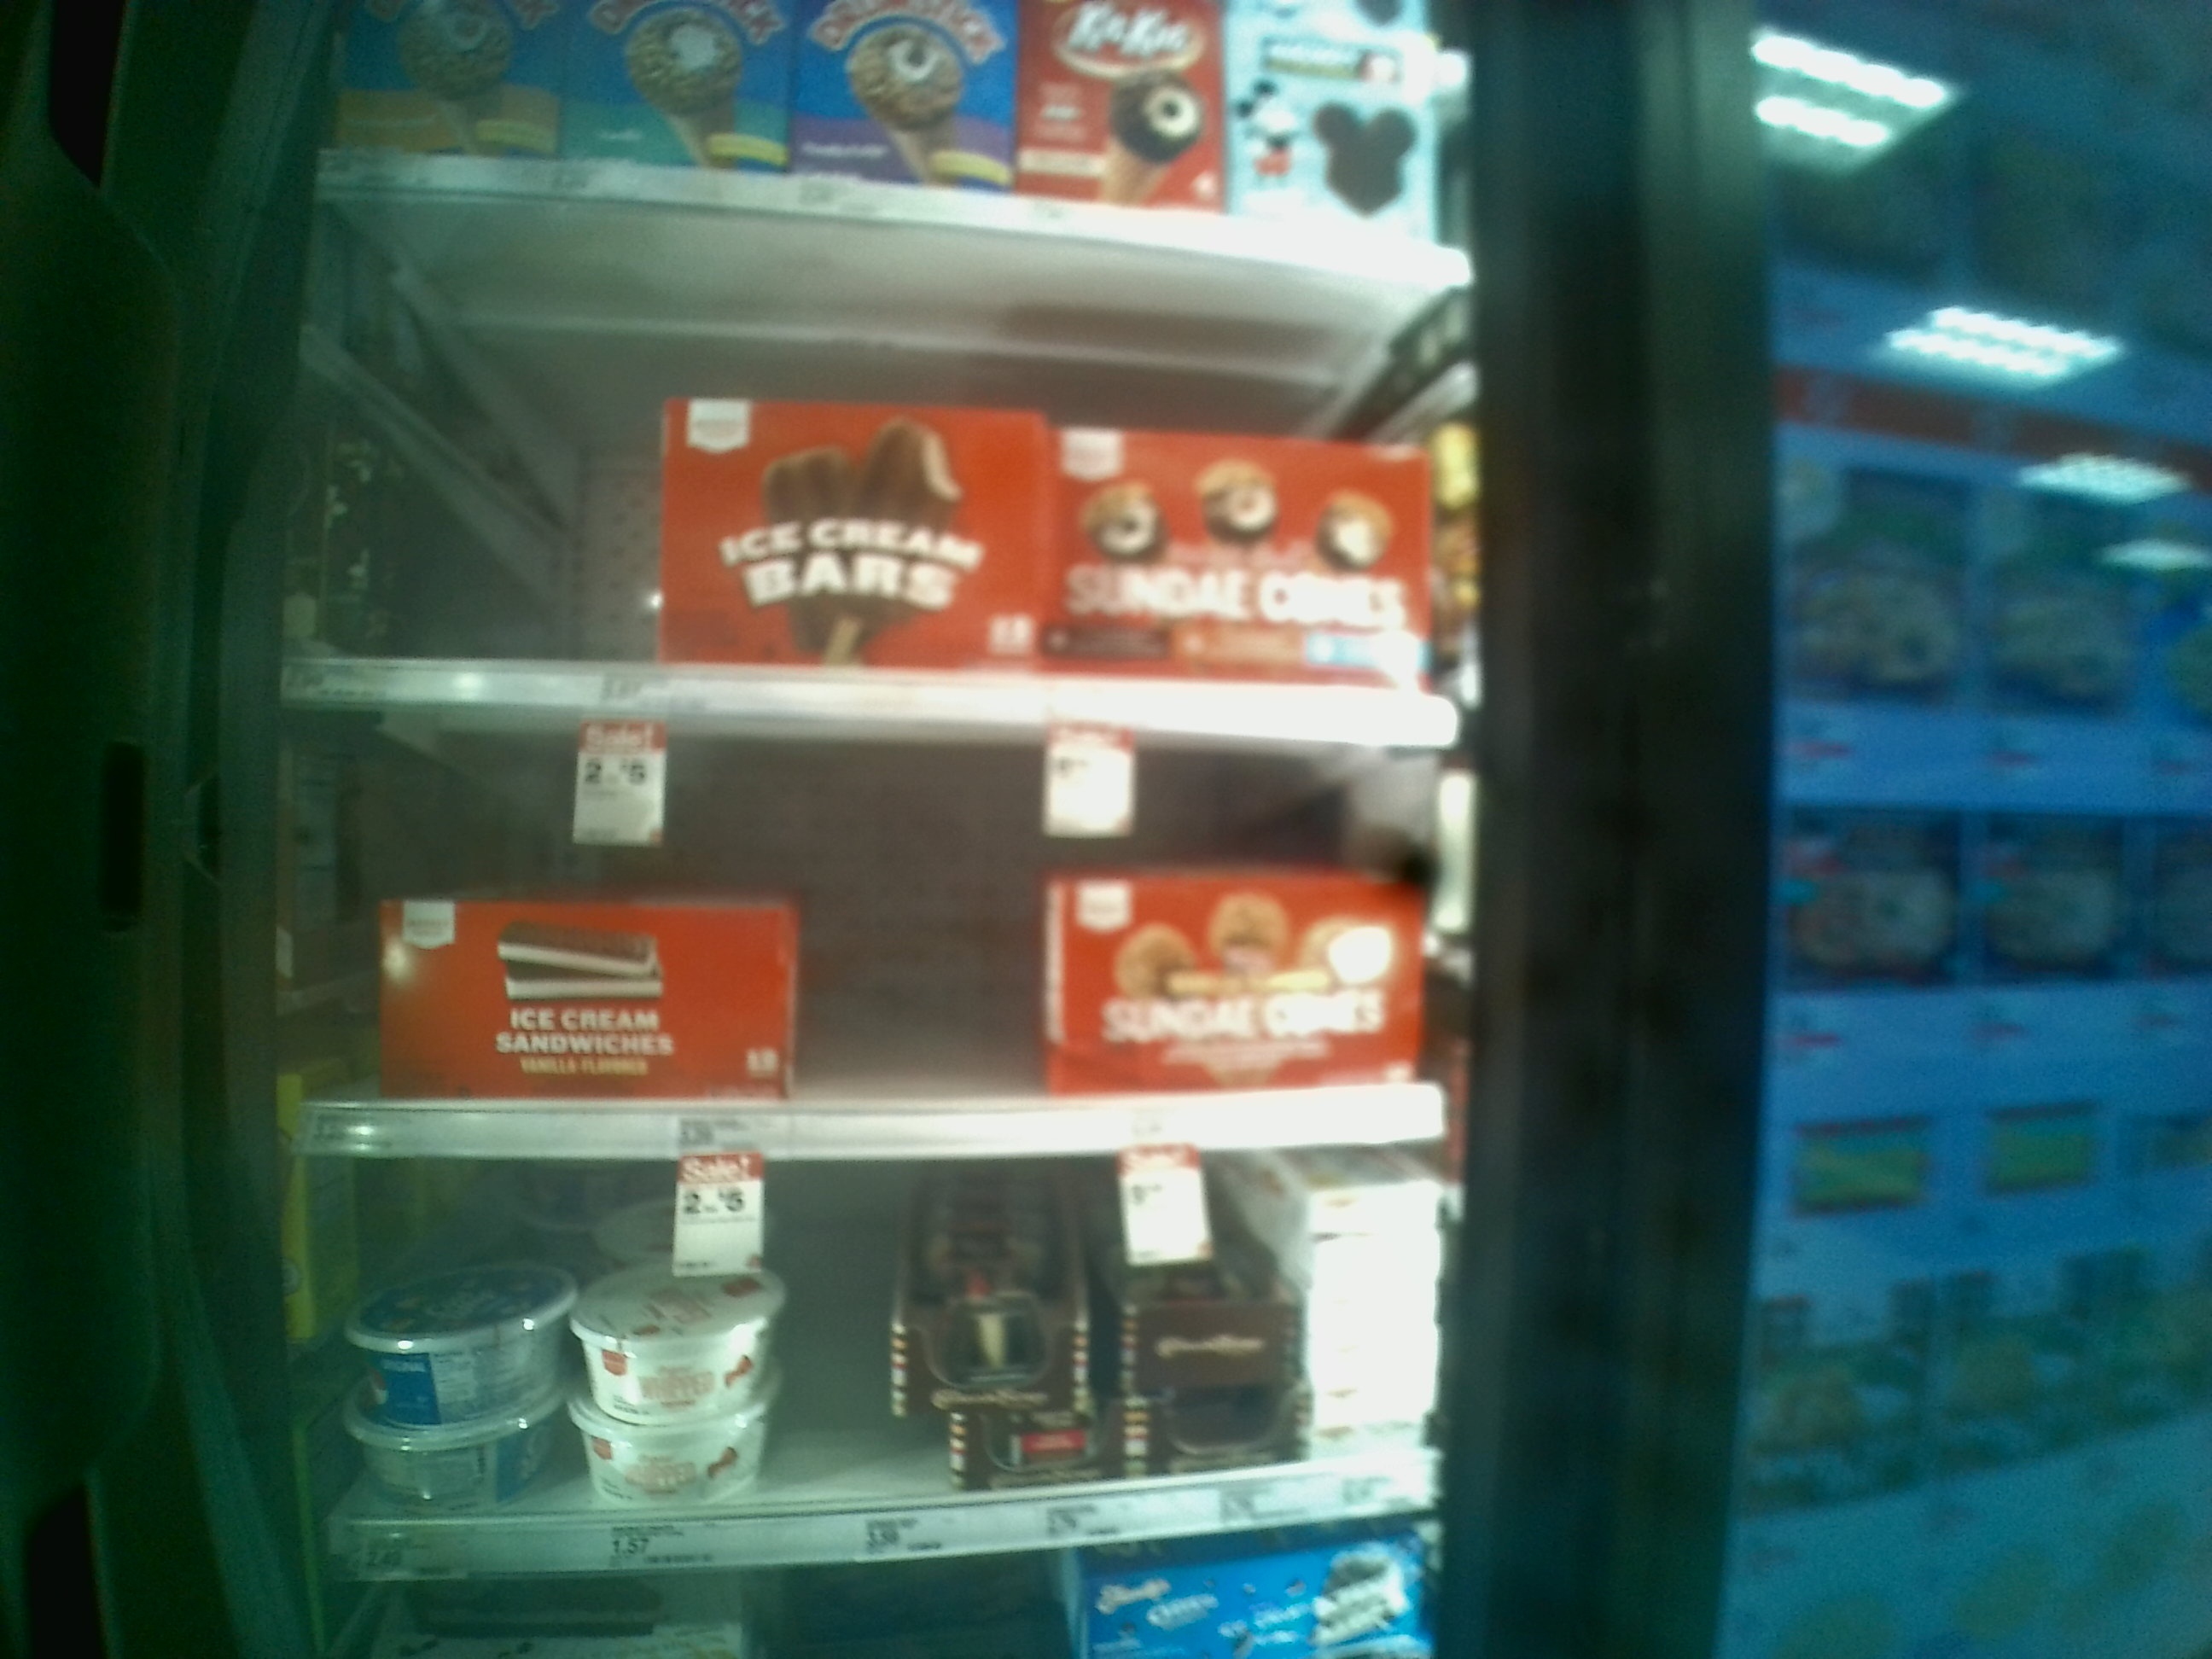shelf: (261, 179, 1475, 756), (233, 1154, 1484, 1589), (225, 721, 1474, 1155)
